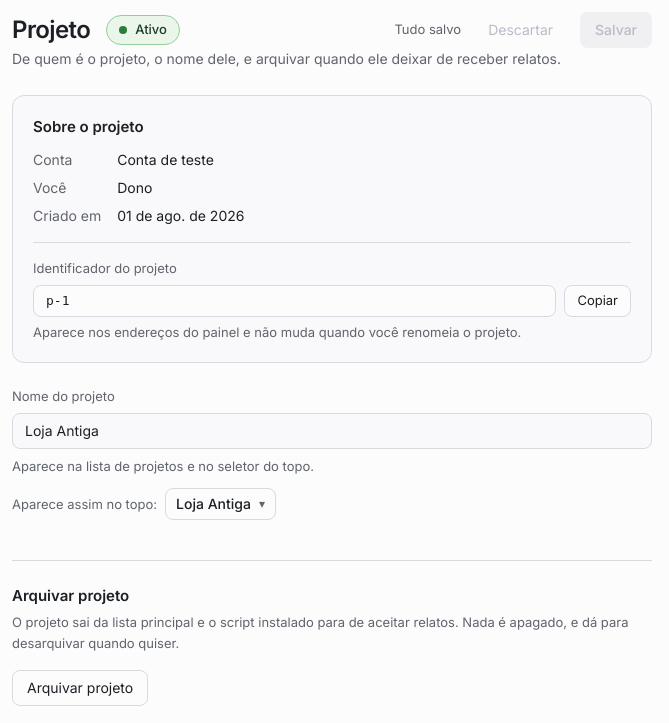
Test: ProjectSettingsScreen › renomeia pelo Salvar do título, que desliga quando o nome está salvo
Expected: the text "Tudo salvo" is shown, [394, 20, 461, 40]
Expected: the button "Salvar" is disabled, [580, 12, 652, 48]
Replace the text in the field labelled "Nome do projeto" with "Loja Renomeada" at x=332, y=431, box [12, 413, 652, 449]
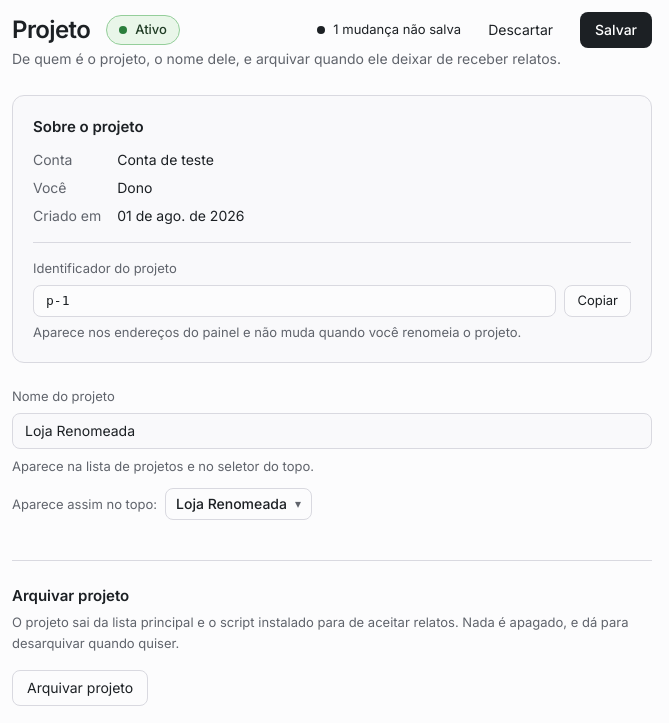
Expected: the text "1 mudança não salva" is shown, [333, 20, 461, 40]
Click the button "Salvar" at x=616, y=30, box [580, 12, 652, 48]
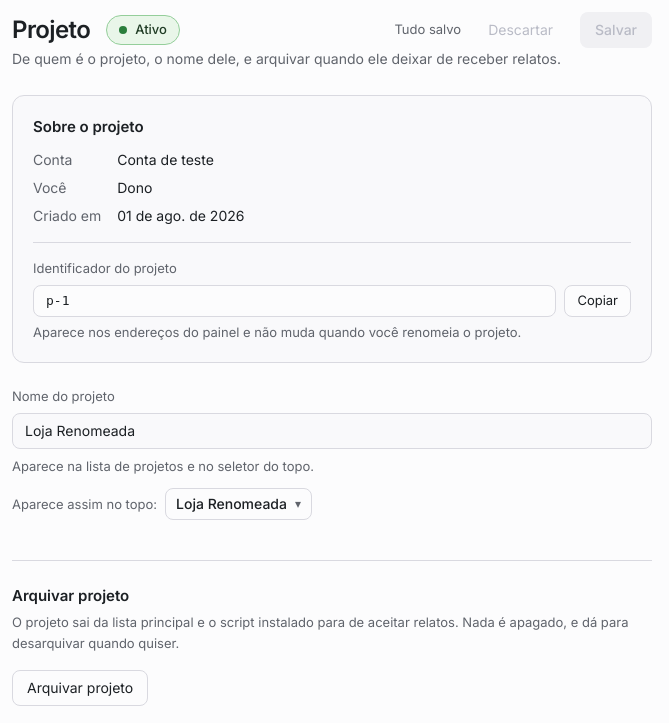
Expected: the text "Loja Renomeada" is shown, [176, 494, 287, 514]
Expected: the text "Tudo salvo" is shown, [394, 20, 461, 40]
Expected: the button "Salvar" is disabled, [580, 12, 652, 48]
